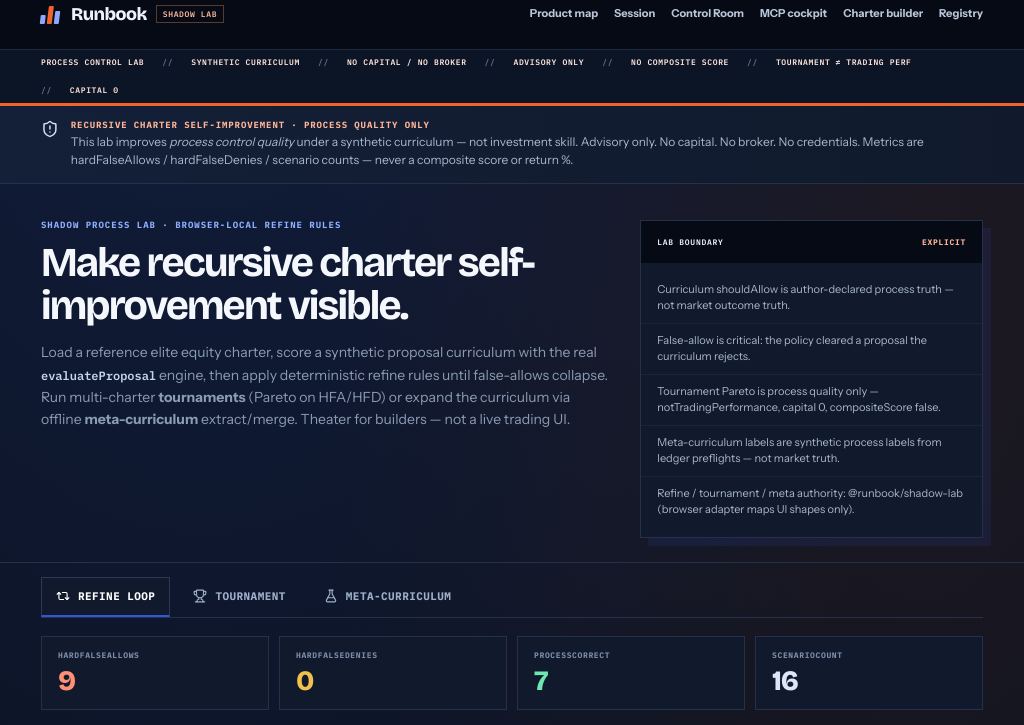
Test case: Shadow Process Lab › runs a tournament and surfaces Pareto candidates with truth rail
The width and height of the screenshot is (1024, 725).
What coordinates should you click on to do the following:
click the tab "Tournament"
I would click on:
 (240, 597)
Its box is [178,577,301,617].
(page scrolled)
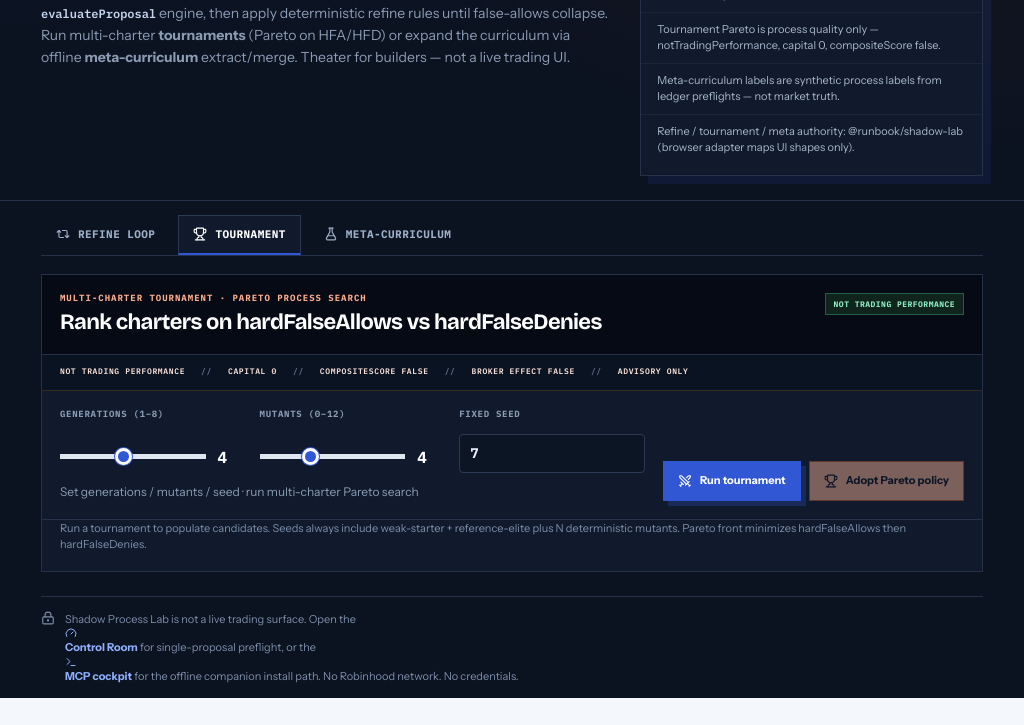
Expected: the element named "Tournament truth rail" shows "NOT TRADING PERFORMANCE", [60,366,185,376]
Expected: the element named "Tournament truth rail" shows "CAPITAL 0", [228,366,277,376]
Expected: the element named "Tournament truth rail" shows "COMPOSITESCORE FALSE", [320,366,429,376]
What coordinates should you click on to do the following:
click the button "Run tournament"
I would click on:
 (732, 481)
Its box is [663,461,801,501].
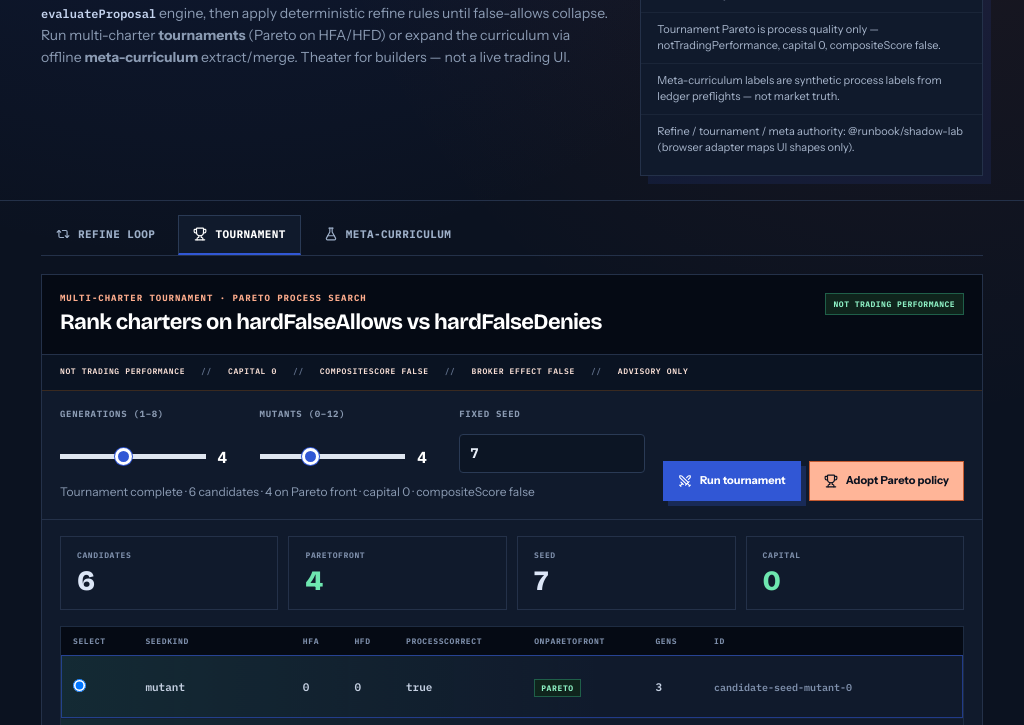
Expected: the element named "Candidate count" reads "candidates 6", [77,564,94,598]
Expected: the element named "Pareto count" reads "paretoFront 4", [306,564,322,598]
Expected: the element named "Capital always zero" shows "0", [762,564,780,598]
# Adopt Pareto should switch back to refine with adopted policy.
What coordinates should you click on to do the following:
click the button "Adopt Pareto policy"
I would click on:
 (886, 481)
Its box is [809,461,964,501].
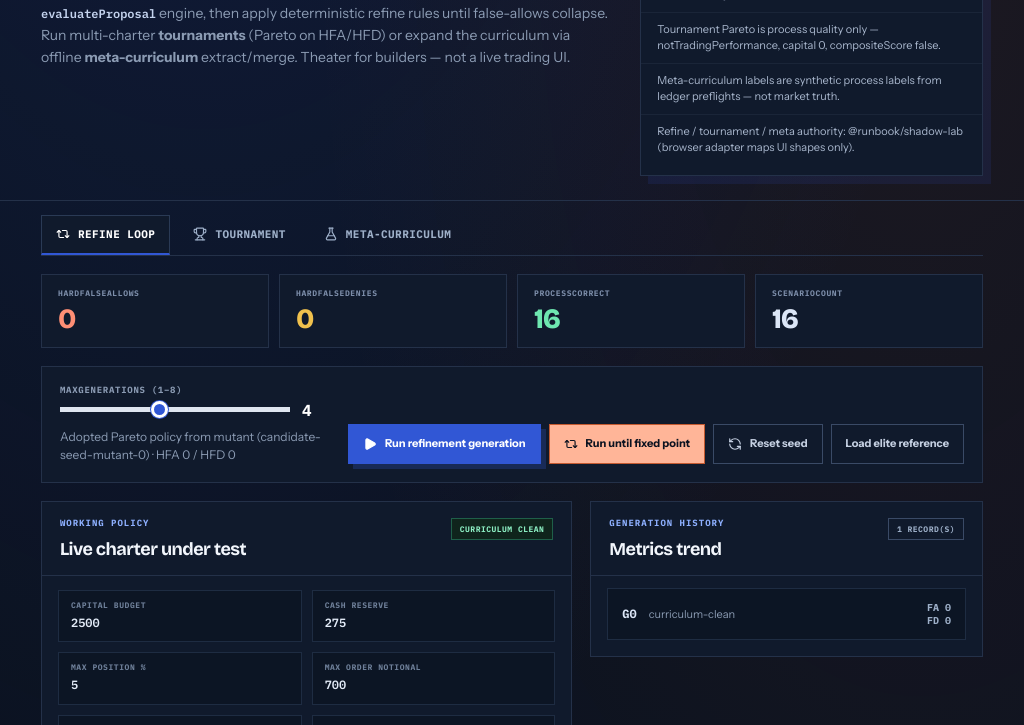
Expected: the element named "Hard false allows" is shown, [41,274,269,348]
